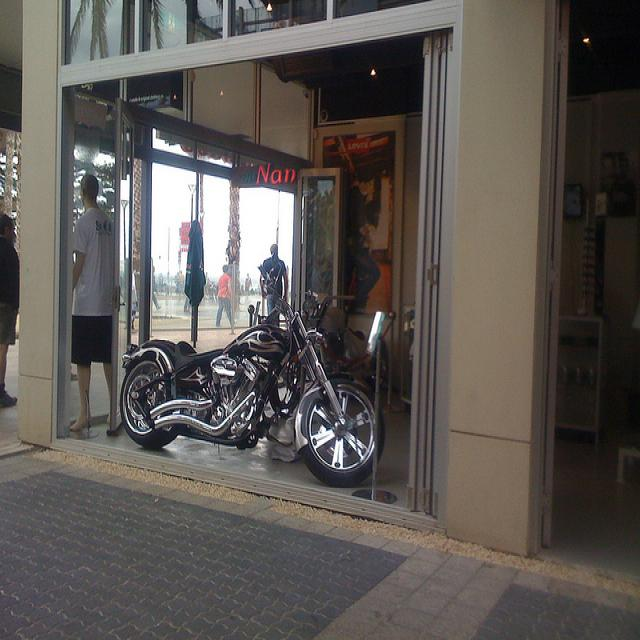motor: (118, 311, 381, 486)
